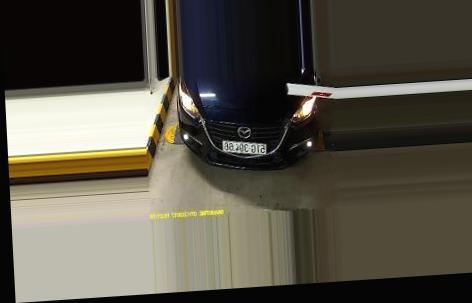License_Plate: (219, 137, 271, 160)
